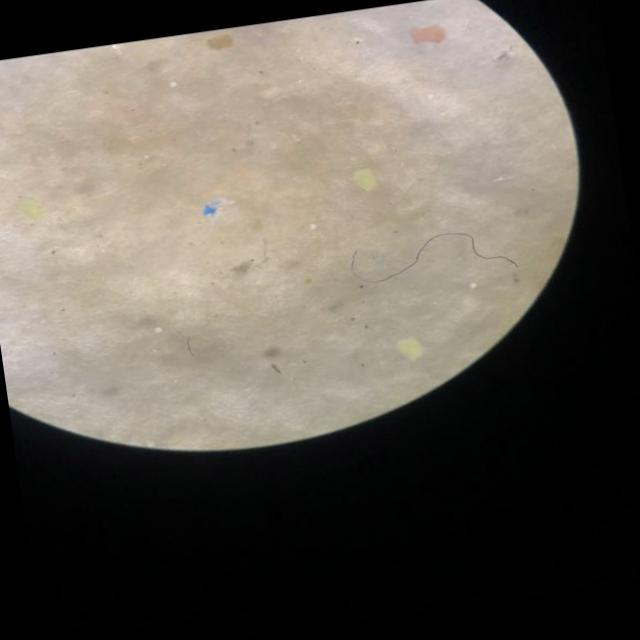fiber: (353, 232, 512, 288)
film: (204, 200, 223, 218)
fragment: (412, 26, 445, 44), (399, 340, 423, 361), (354, 170, 377, 189), (22, 201, 43, 219), (209, 35, 233, 50)
pellet: (470, 283, 476, 289), (428, 94, 434, 100), (170, 82, 176, 88), (157, 327, 162, 332), (312, 225, 316, 229)
